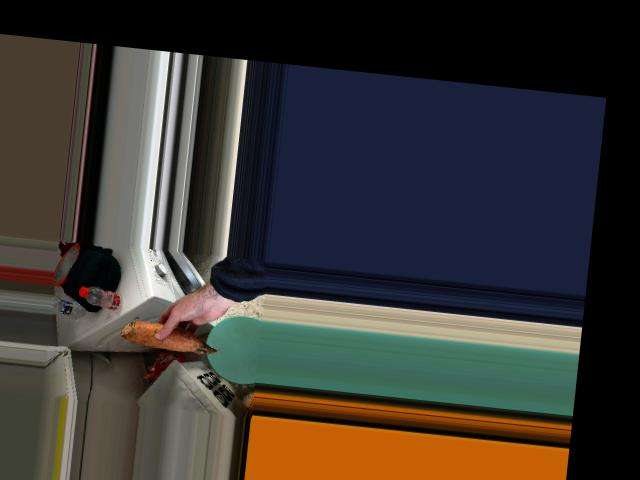sweet_potato: (115, 313, 218, 361)
